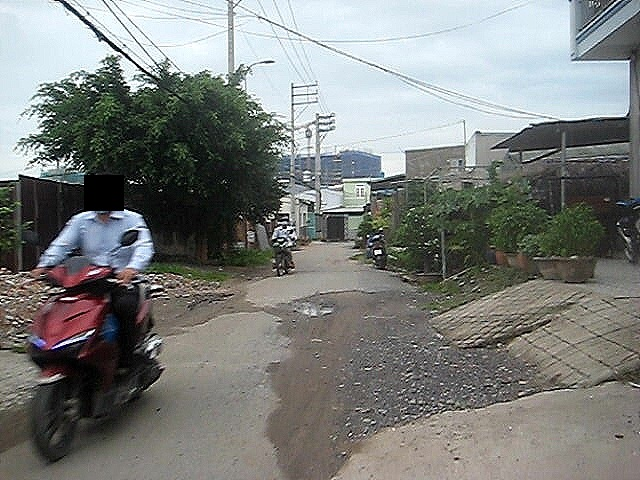hole: (281, 294, 344, 322)
